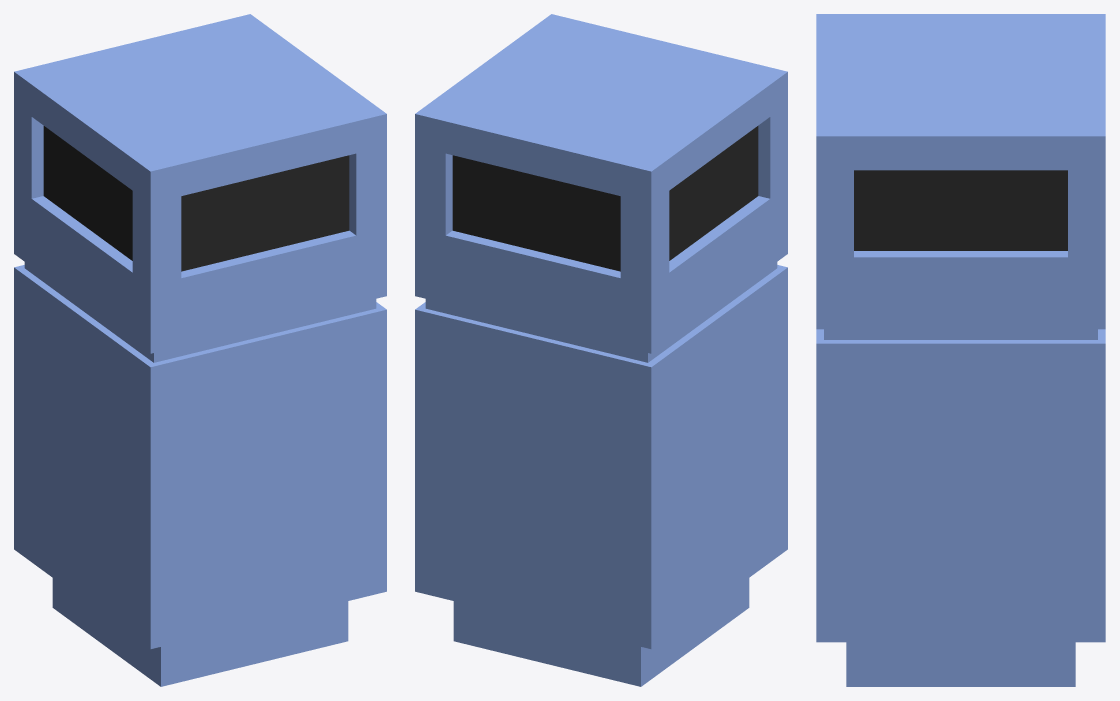
The model's file is Trash_Can.FBX.
The picture shows the model from 3 angles, left to right: view 1: azimuth 30°, elevation 25°; view 2: azimuth 150°, elevation 25°; view 3: azimuth 270°, elevation 25°; orthographic projection. The views are drawn at different scales.
Visible parts, largest first — view 1: Box001; view 2: Box001; view 3: Box001.
Boxes of the visible parts, x1,y1,x2,y2 form: Box001: (14,14,386,686); Box001: (415,14,787,686); Box001: (816,14,1105,686).
Bounding box in the file's own units: 18.2 × 39.11 × 18.2.
